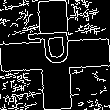P_E: (29, 35, 81, 75)
